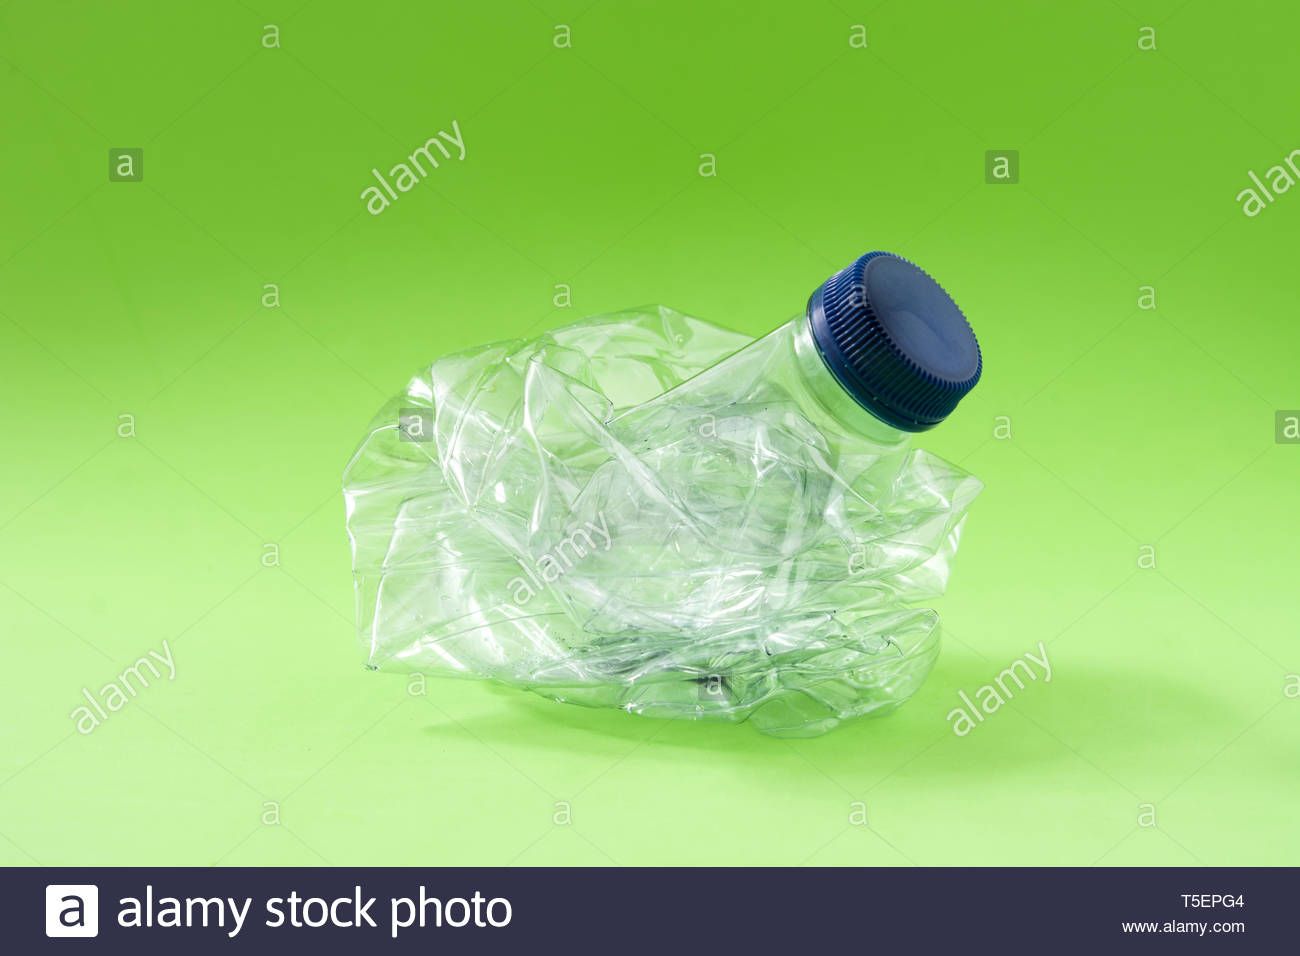plastic_bottle: (233, 88, 1183, 824)
